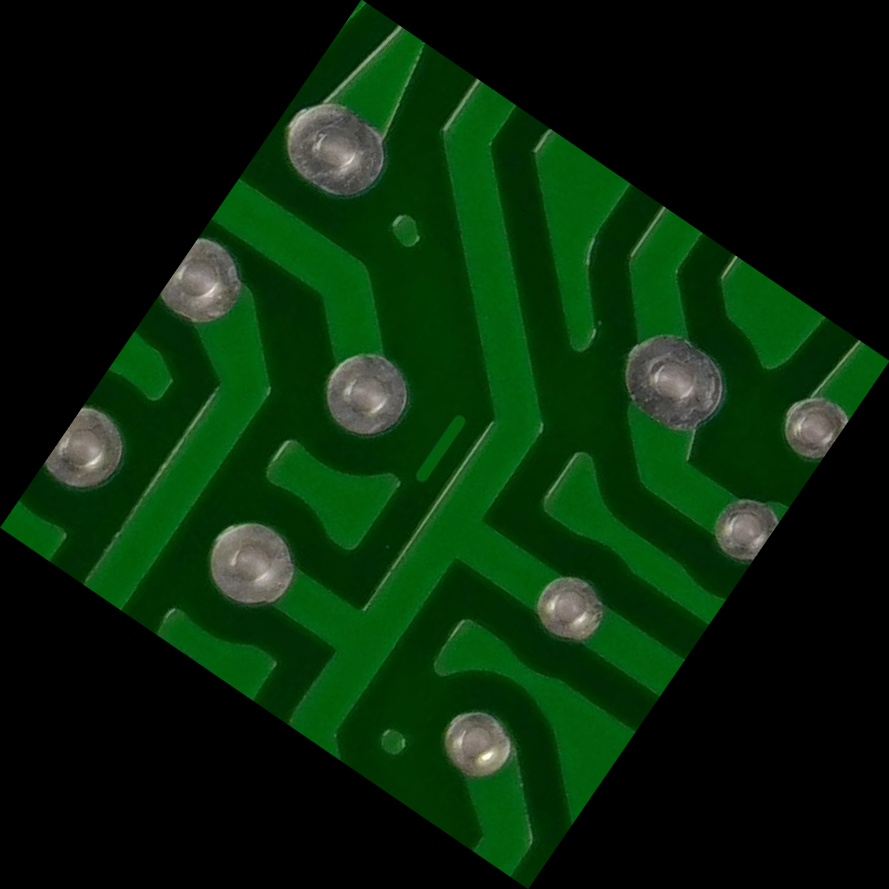spurious_copper: (388, 381, 502, 509)
